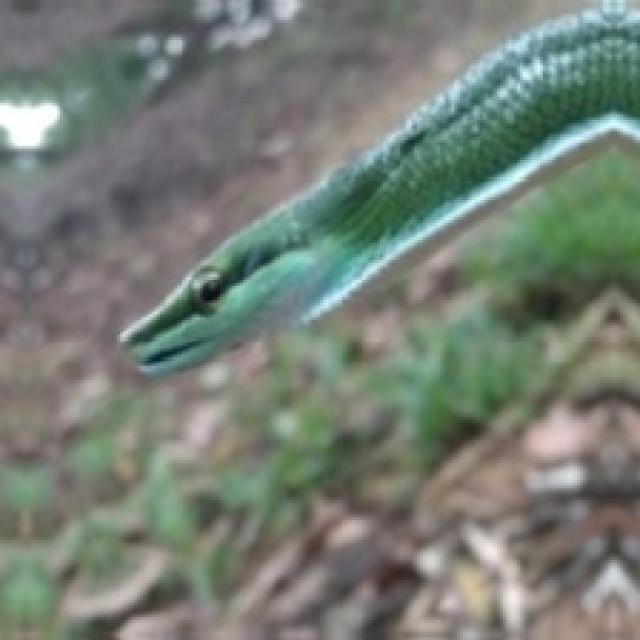red-tailed green ratsnake: (120, 151, 637, 637), (120, 3, 637, 371), (120, 11, 637, 371), (374, 423, 420, 457)
